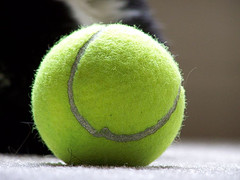tennis ball: (32, 21, 188, 167)
